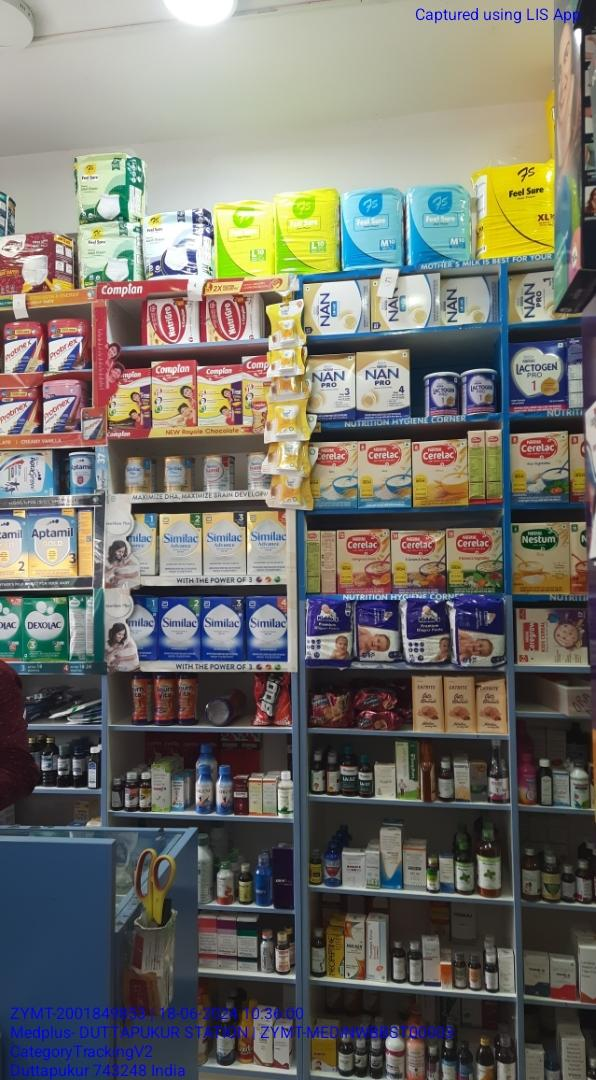BOURN_VITA_500_G_JAR: (155, 673, 175, 726), (178, 673, 198, 724), (131, 672, 149, 725)
COMPLAN_CREAMY_CLASSIC_500_G_PACK: (199, 367, 243, 427)
COMPLAN_KESAR_BADAM_500_GMS_PACK: (151, 360, 198, 429)
PROTINEX_CHOCOLATE_400_G_JAR: (48, 318, 84, 371)
PROTINEX_VANILLA_400_G_JAR: (2, 321, 44, 375)
